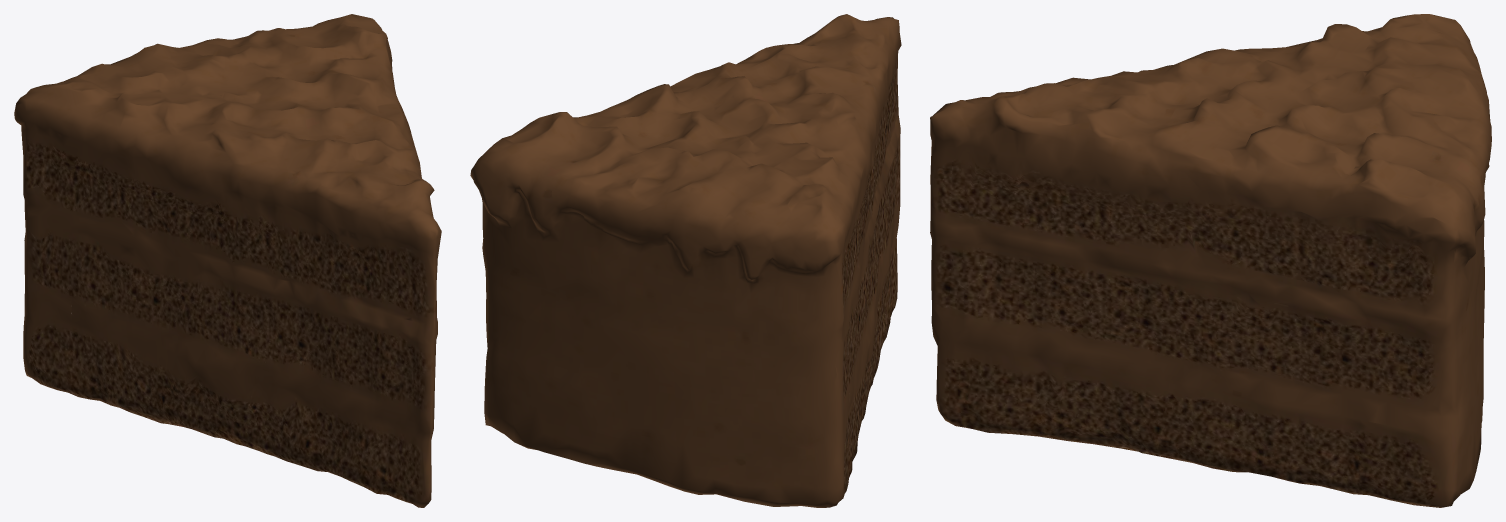
File: food_prepared_cake_a01.glb
3 renders of one model, left to right at view 1: azimuth 30°, elevation 25°; view 2: azimuth 150°, elevation 25°; view 3: azimuth 270°, elevation 25°, orthographic. The views are drawn at different scales.
Visible parts, largest first — view 1: sm_food_prepared_cake_a01_mesh_00_0; view 2: sm_food_prepared_cake_a01_mesh_00_0; view 3: sm_food_prepared_cake_a01_mesh_00_0.
Part boxes in pixels (left/top/right/bottom): sm_food_prepared_cake_a01_mesh_00_0: left=14, top=14, right=441, bottom=507; sm_food_prepared_cake_a01_mesh_00_0: left=470, top=14, right=901, bottom=507; sm_food_prepared_cake_a01_mesh_00_0: left=930, top=14, right=1491, bottom=507.
Bounding box in the file's own units: 0.0858 × 0.0696 × 0.1042.
1 material, 1 textured.
